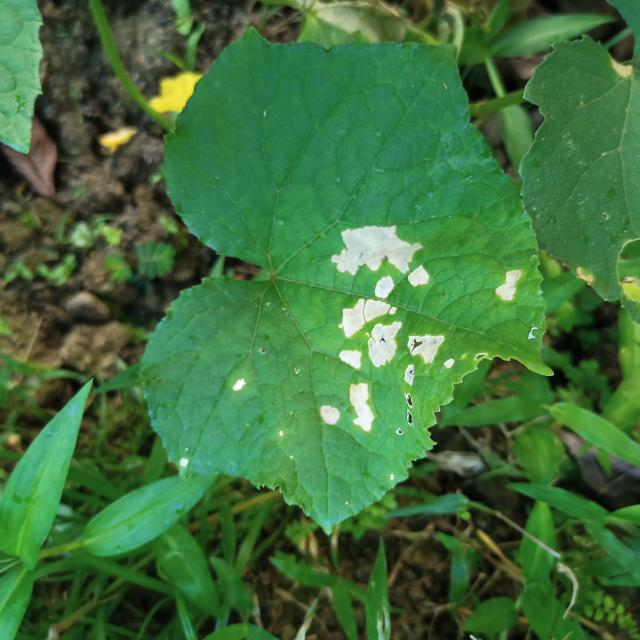disease_cucumber: (312, 221, 453, 437), (484, 257, 525, 314), (228, 376, 251, 396)
